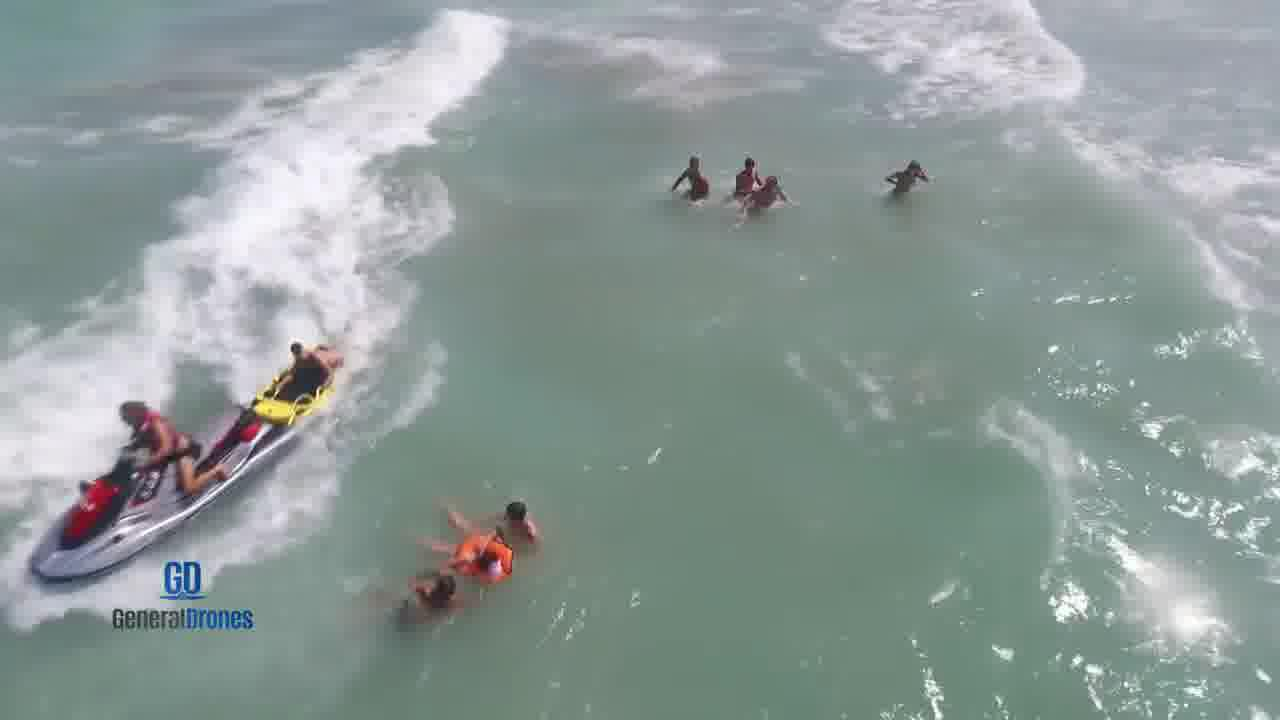human: (86, 404, 172, 446), (462, 540, 533, 583), (501, 489, 556, 536), (885, 156, 944, 198), (275, 341, 327, 387), (670, 139, 698, 206), (759, 168, 800, 213), (411, 577, 462, 611), (723, 146, 750, 173)
